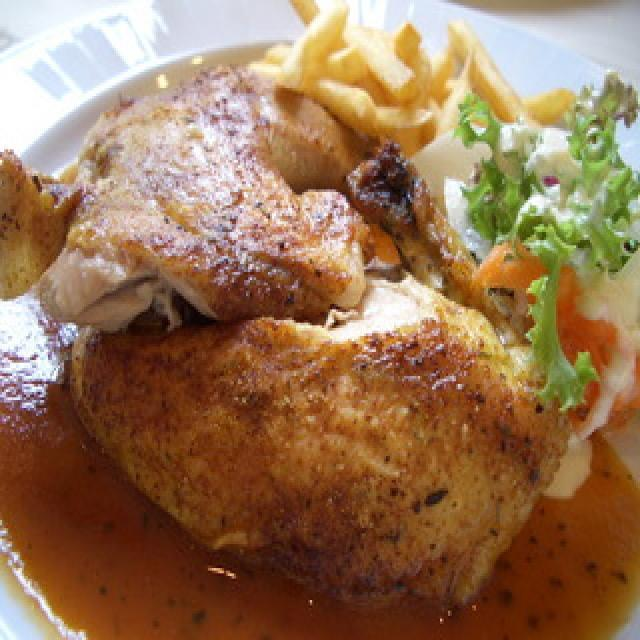Chicken roast: (54, 67, 550, 593)
